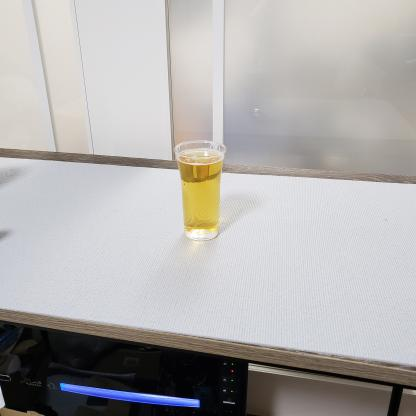glass: (169, 138, 238, 247)
